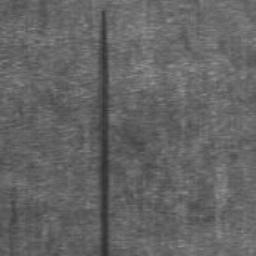Scratches: (98, 10, 112, 256)
